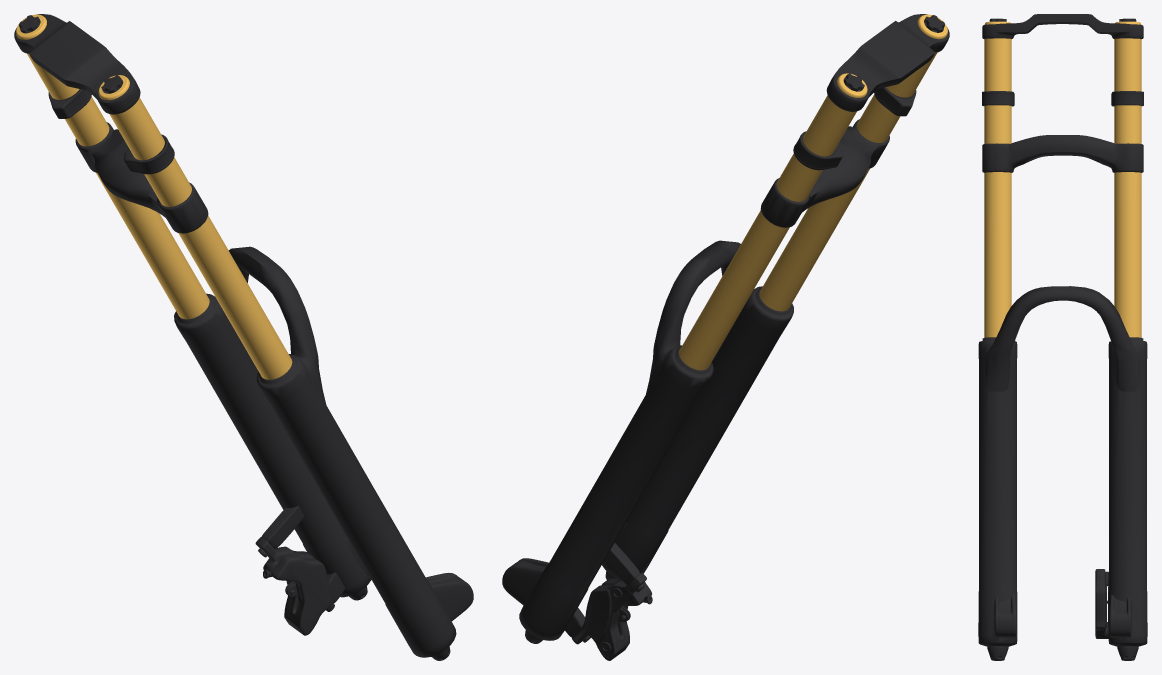
Rendered from fuzz_fork.glb.
3 renders of one model, left to right at view 1: azimuth 30°, elevation 25°; view 2: azimuth 150°, elevation 25°; view 3: azimuth 270°, elevation 25°, orthographic. The views are drawn at different scales.
Visible parts, largest first — view 1: fork_lower, fork_crown; view 2: fork_lower, fork_crown; view 3: fork_lower, fork_crown.
Part boxes in pixels (bbox=[...]): fork_lower: bbox=[174, 246, 473, 660]; fork_crown: bbox=[14, 14, 292, 379]; fork_lower: bbox=[502, 240, 793, 660]; fork_crown: bbox=[679, 14, 949, 370]; fork_lower: bbox=[978, 286, 1147, 660]; fork_crown: bbox=[982, 14, 1143, 337].
Bounding box in the file's own units: 0.4352 × 0.7302 × 0.2102.
